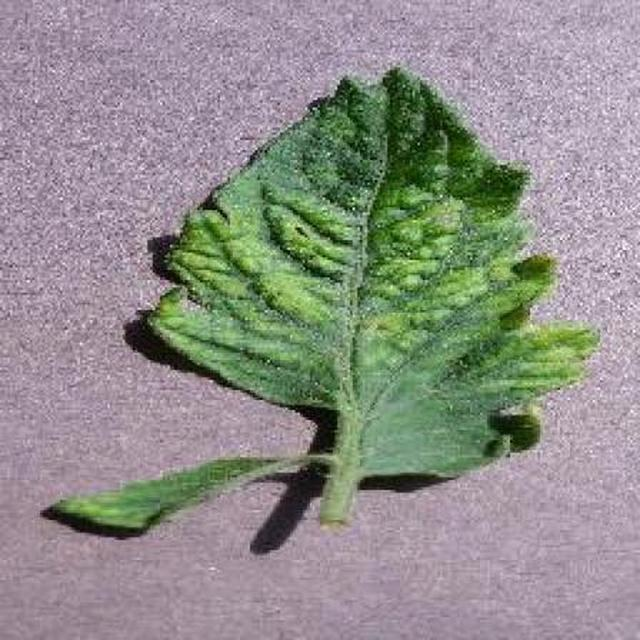Mosaic Virus Leaf: (241, 116, 640, 640)
